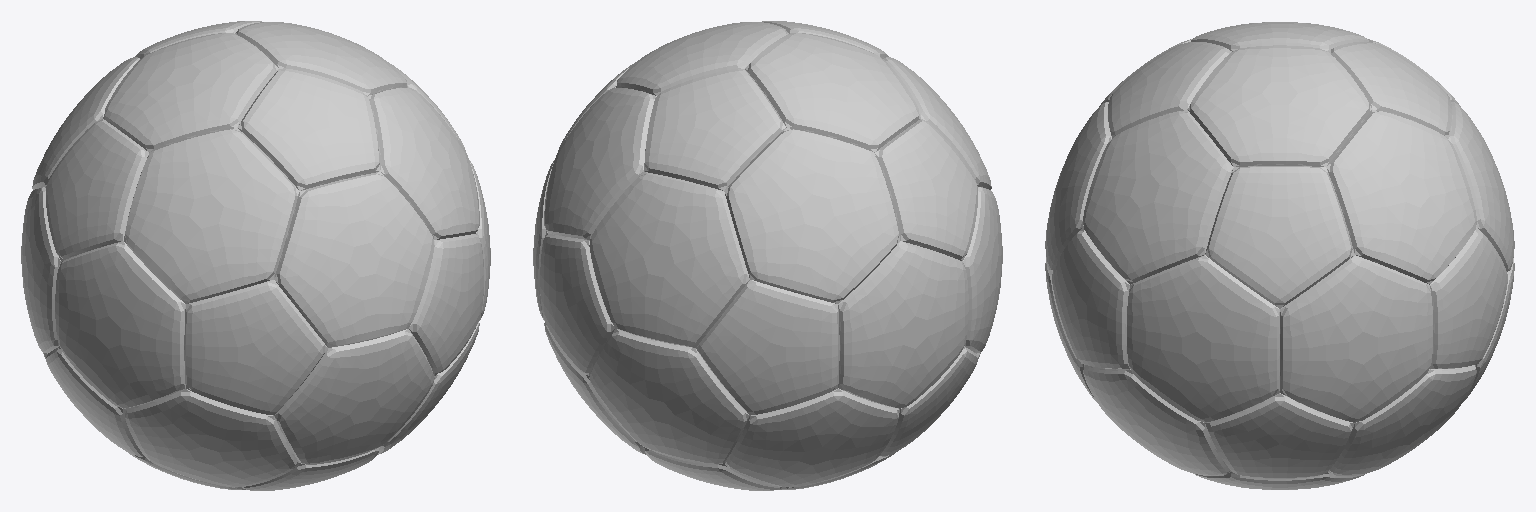
The model's file is bola.obj.
The picture shows the model from 3 angles: view 1: azimuth 30°, elevation 25°; view 2: azimuth 150°, elevation 25°; view 3: azimuth 270°, elevation 25°; orthographic projection.
Visible parts, largest first — view 1: Hedra01; view 2: Hedra01; view 3: Hedra01.
Boxes of the visible parts, x1,y1,x2,y2 form: Hedra01: [21, 21, 490, 490]; Hedra01: [533, 21, 1002, 490]; Hedra01: [1045, 22, 1514, 489].
Bounding box in the file's own units: 0.4736 × 0.4736 × 0.4736.